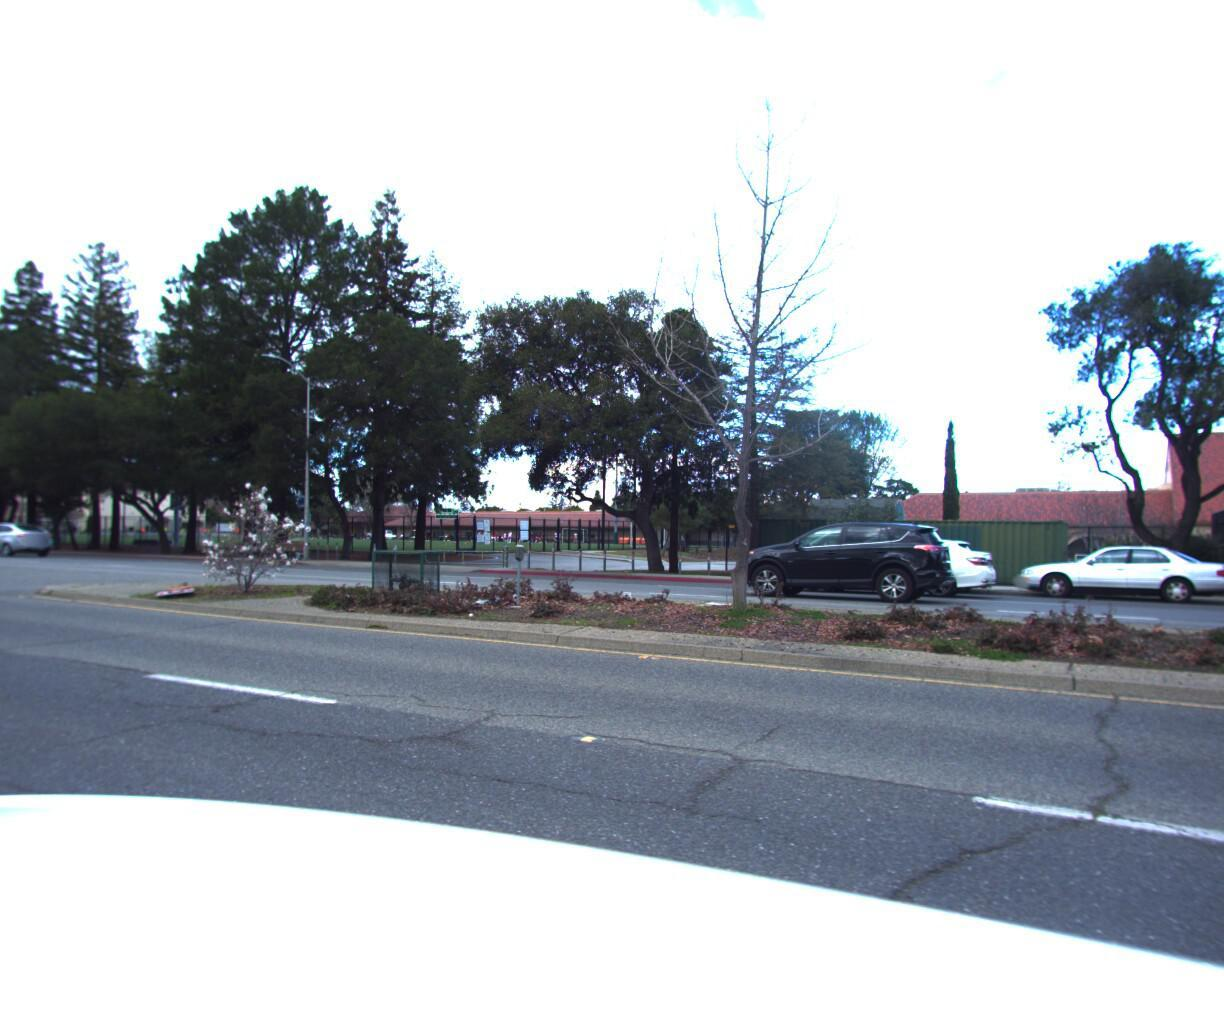car: (729, 509, 970, 597), (788, 524, 997, 596), (1006, 536, 1224, 605), (814, 526, 994, 589), (0, 511, 62, 549)
